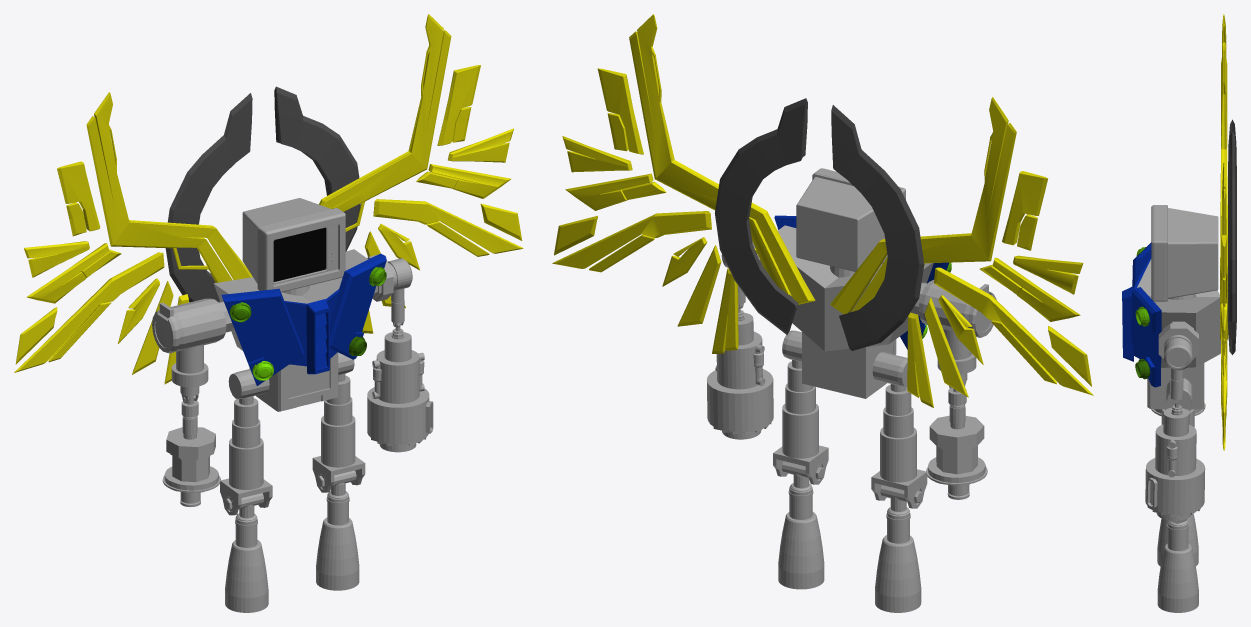
Rendered from boss_complete3.fbx.
3 renders of one model, left to right at view 1: azimuth 30°, elevation 25°; view 2: azimuth 150°, elevation 25°; view 3: azimuth 270°, elevation 25°, orthographic. The views are drawn at different scales.
Parts seen in each view (by area): view 1: wing_right, wing_left, halo, Head, right_plate, left_plate, Group39404, Group23568, Group35954, Group50545, Group20653, Group693 (+16 smaller); view 2: wing_left, wing_right, halo, Head, SKREV, Group35954, Group39404, Group23568, Robot, Group693, Group60536, Group10836 (+12 smaller); view 3: Head, Group39404, Group35954, halo, left_plate, wing_left, Robot, Chest, Group35849, wing_right, SKREV, Group18 (+13 smaller).
Part boxes in pixels (left/top/right/bottom): wing_right: left=14, top=92, right=252, bottom=384; wing_left: left=318, top=14, right=523, bottom=333; halo: left=165, top=86, right=360, bottom=302; Head: left=242, top=198, right=345, bottom=292; right_plate: left=221, top=288, right=304, bottom=385; left_plate: left=330, top=253, right=386, bottom=359; Group39404: left=316, top=517, right=359, bottom=590; Group23568: left=225, top=539, right=268, bottom=612; Group35954: left=367, top=387, right=429, bottom=444; Group50545: left=275, top=352, right=338, bottom=411; Group20653: left=170, top=298, right=226, bottom=351; Group693: left=166, top=427, right=215, bottom=482; wing_left: left=552, top=14, right=815, bottom=353; wing_right: left=830, top=97, right=1093, bottom=407; halo: left=715, top=98, right=924, bottom=350; Head: left=796, top=168, right=905, bottom=271; SKREV: left=802, top=332, right=893, bottom=398; Group35954: left=707, top=369, right=773, bottom=431; Group39404: left=778, top=512, right=824, bottom=589; Group23568: left=875, top=535, right=921, bottom=612; Robot: left=795, top=263, right=931, bottom=351; Group693: left=929, top=415, right=984, bottom=474; Group60536: left=880, top=427, right=916, bottom=482; Group10836: left=782, top=404, right=818, bottom=458; Head: left=1151, top=205, right=1218, bottom=301; Group39404: left=1157, top=543, right=1198, bottom=612; Group35954: left=1145, top=458, right=1205, bottom=514; halo: left=1227, top=119, right=1236, bottom=354; left_plate: left=1131, top=287, right=1161, bottom=387; wing_left: left=1220, top=162, right=1228, bottom=450; Robot: left=1137, top=259, right=1219, bottom=349; Chest: left=1150, top=297, right=1220, bottom=367; Group35849: left=1155, top=424, right=1196, bottom=475; wing_right: left=1220, top=14, right=1227, bottom=288; SKREV: left=1154, top=363, right=1204, bottom=409; Group18: left=1164, top=335, right=1192, bottom=370.
Size of the model in its own units: 11184 by 10950 by 2302.
